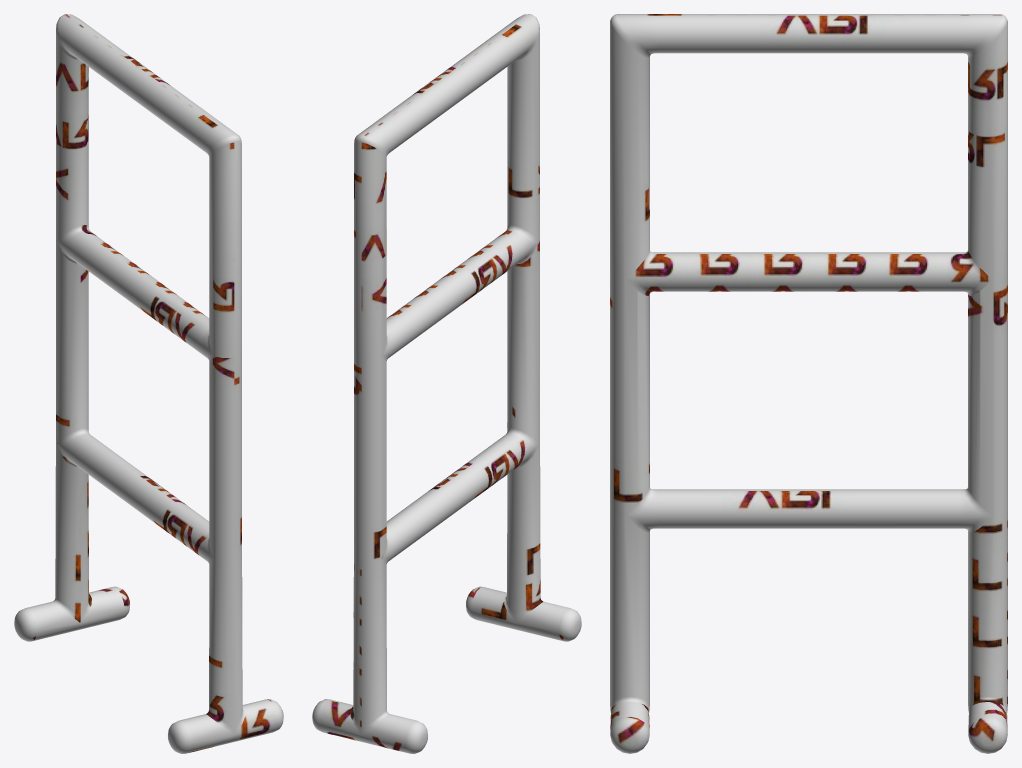
The model's file is vrl_gate7.glb.
3 views of the same model, side by side, from view 1: azimuth 30°, elevation 25°; view 2: azimuth 150°, elevation 25°; view 3: azimuth 270°, elevation 25° (orthographic). The views are drawn at different scales.
Visible parts, largest first — view 1: VRL_Gate7; view 2: VRL_Gate7; view 3: VRL_Gate7.
Boxes of the visible parts, x1,y1,x2,y2 form: VRL_Gate7: (14, 14, 283, 753); VRL_Gate7: (312, 14, 581, 753); VRL_Gate7: (610, 14, 1007, 753).
Size of the model in its own units: 1.25 by 6.76 by 3.42.
Materials: 1 (1 with a texture image).
